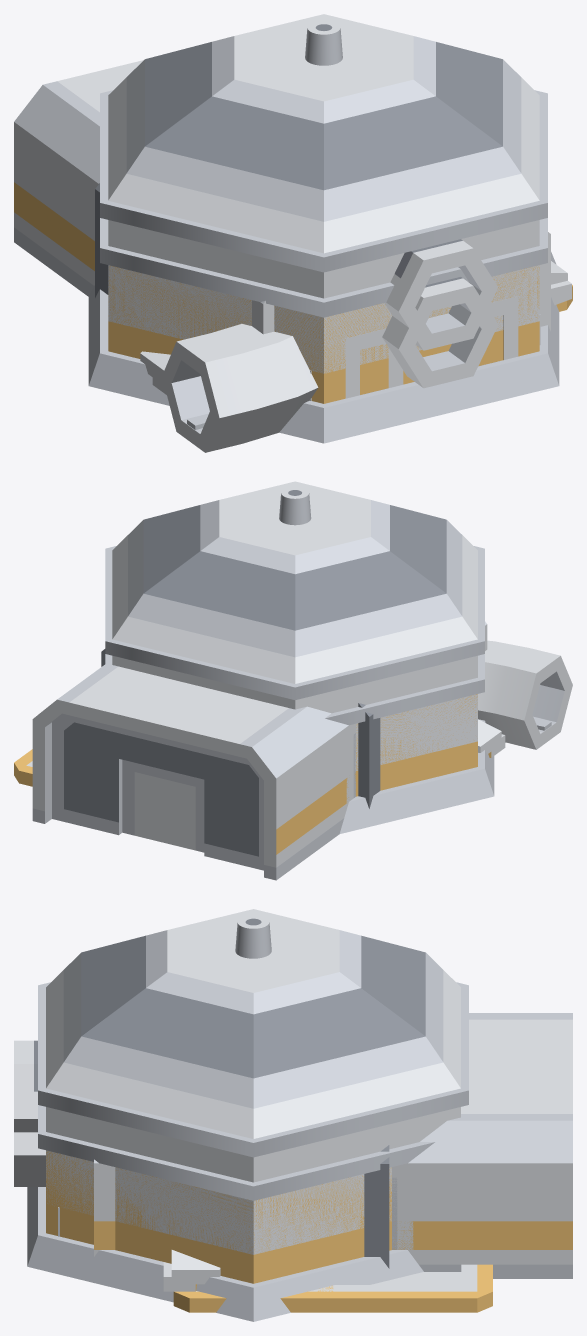
Rendered from kenney_space-kit.glb.
3 renders of one model, top to bottom at view 1: azimuth 30°, elevation 25°; view 2: azimuth 150°, elevation 25°; view 3: azimuth 270°, elevation 25°, orthographic. The views are drawn at different scales.
Visible parts, largest first — view 1: hangar_roundB, hangar_roundA, hangar_largeA, hangar_roundGlass, pipe_cornerRoundLarge, hangar_largeB, pipe_rampLarge, pipe_rampSmall, craft_miner, chimney_detailed, craft_speederD, craft_speederC; view 2: hangar_roundB, hangar_largeA, gate, hangar_largeB, hangar_roundA, pipe_cornerRoundLarge, hangar_roundGlass, chimney_detailed, craft_speederD, platform_large; view 3: hangar_roundB, hangar_largeA, hangar_roundA, hangar_largeB, hangar_roundGlass, platform_large, pipe_rampLarge, pipe_rampSmall, craft_speederD, chimney_detailed, hangar_smallA, craft_speederC (+1 smaller).
Boxes of the visible parts, left/top/right/bottom form: hangar_roundB: left=100, top=14, right=547, bottom=403; hangar_roundA: left=100, top=218, right=547, bottom=403; hangar_largeA: left=14, top=60, right=550, bottom=334; hangar_roundGlass: left=88, top=252, right=559, bottom=443; pipe_cornerRoundLarge: left=162, top=323, right=318, bottom=452; hangar_largeB: left=14, top=61, right=264, bottom=333; pipe_rampLarge: left=384, top=239, right=498, bottom=350; pipe_rampSmall: left=382, top=277, right=498, bottom=388; craft_miner: left=345, top=296, right=518, bottom=398; chimney_detailed: left=305, top=24, right=342, bottom=65; craft_speederD: left=140, top=261, right=567, bottom=385; craft_speederC: left=152, top=280, right=571, bottom=394; hangar_roundB: left=105, top=481, right=484, bottom=794; hangar_largeA: left=32, top=621, right=487, bottom=880; gate: left=52, top=713, right=263, bottom=870; hangar_largeB: left=45, top=622, right=487, bottom=879; hangar_roundA: left=105, top=654, right=484, bottom=796; pipe_cornerRoundLarge: left=478, top=640, right=572, bottom=749; hangar_roundGlass: left=339, top=719, right=494, bottom=833; chimney_detailed: left=279, top=491, right=311, bottom=525; craft_speederD: left=478, top=719, right=501, bottom=754; platform_large: left=14, top=749, right=32, bottom=786; hangar_roundB: left=38, top=909, right=468, bottom=1283; hangar_largeA: left=94, top=1013, right=572, bottom=1278; hangar_roundA: left=38, top=1105, right=434, bottom=1283; hangar_largeB: left=94, top=1013, right=572, bottom=1278; hangar_roundGlass: left=27, top=1187, right=423, bottom=1321; platform_large: left=173, top=1264, right=492, bottom=1312; pipe_rampLarge: left=14, top=1040, right=37, bottom=1132; pipe_rampSmall: left=14, top=1132, right=45, bottom=1186; craft_speederD: left=171, top=1250, right=220, bottom=1284; chimney_detailed: left=235, top=919, right=271, bottom=958; hangar_smallA: left=94, top=1159, right=413, bottom=1253; craft_speederC: left=163, top=1262, right=196, bottom=1291.
Bounding box in the file's own units: 3.27 × 2.1 × 3.5.
